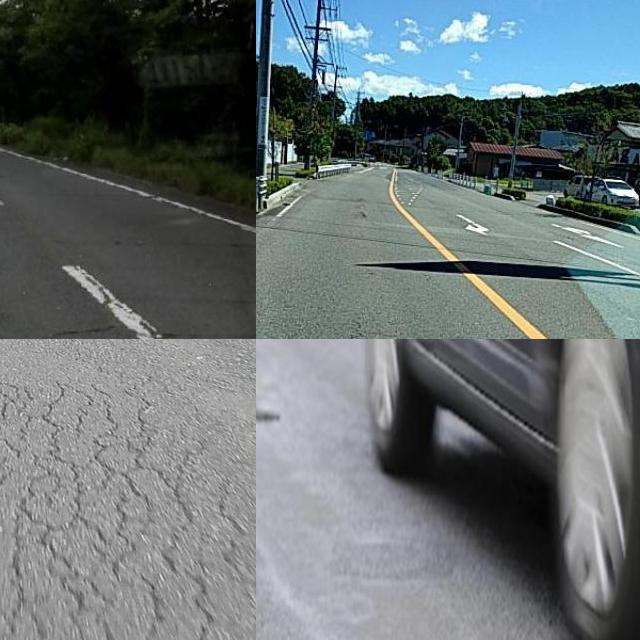Melintang: (0, 316, 256, 339)
Retak Buaya: (0, 401, 256, 640)
